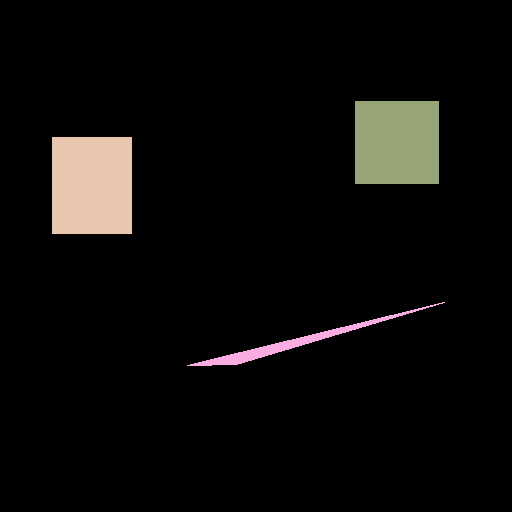rectangle: (52, 137, 131, 233)
square: (355, 101, 438, 183)
